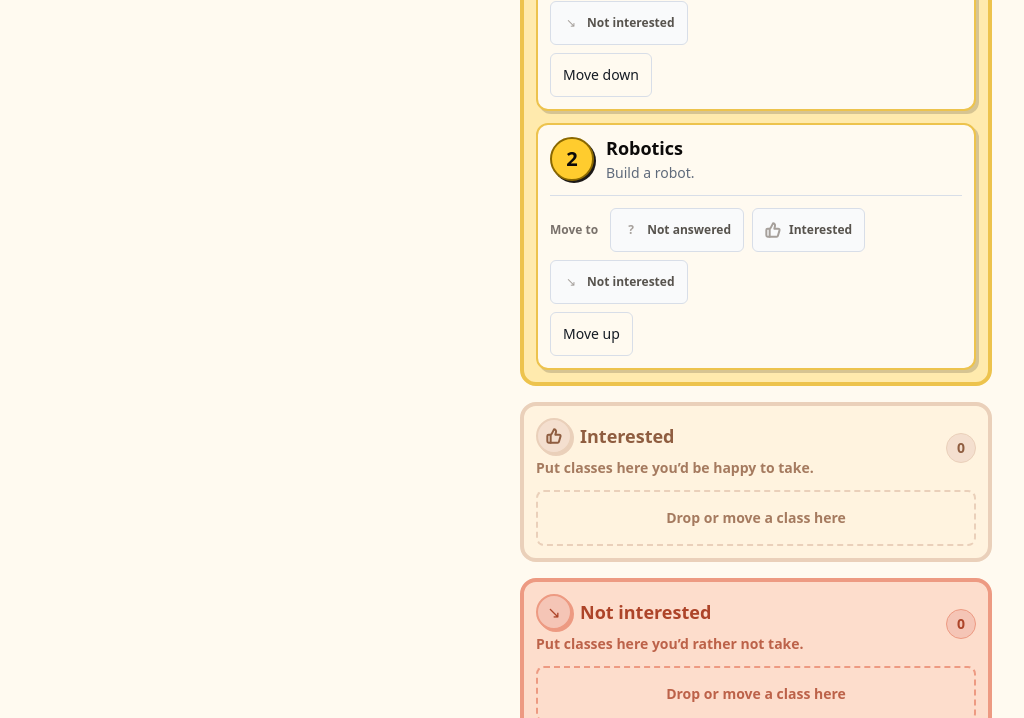
ranked choice preference form › makes ranked favorites sortable while preserving keyboard move controls
(page scrolled)
Expected: the button "Robotics" is shown, 536,122 -> 976,370
What coordinates should you click on to do the following:
click the button "Move up"
I would click on:
 (591, 334)
Its box is 550,312 -> 633,356.
(page scrolled)
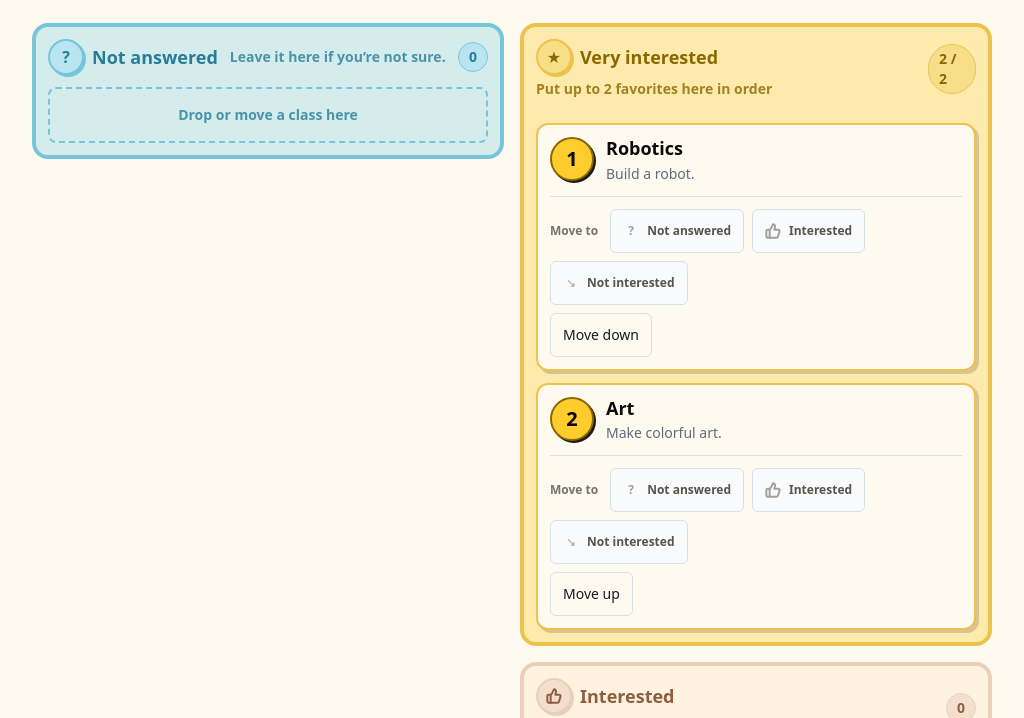
Expected: the text named "Rank 1" is shown, 550,137 -> 594,181
Expected: the text named "Rank 2" is shown, 550,396 -> 594,440
